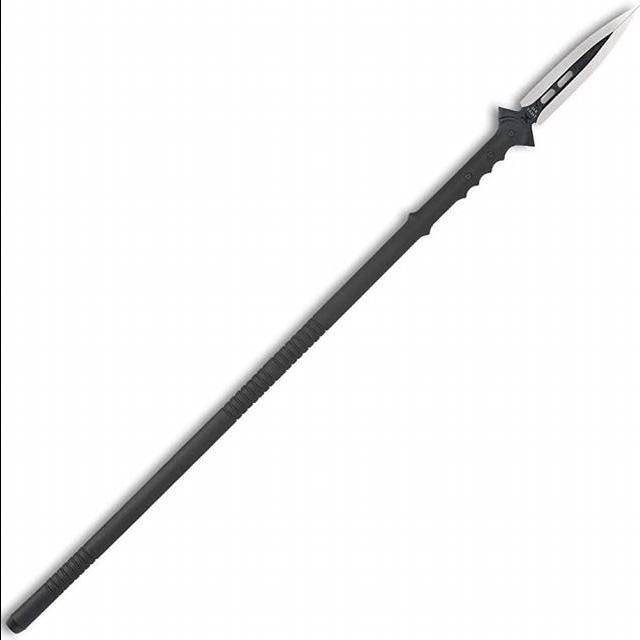spear: (7, 6, 640, 636)
